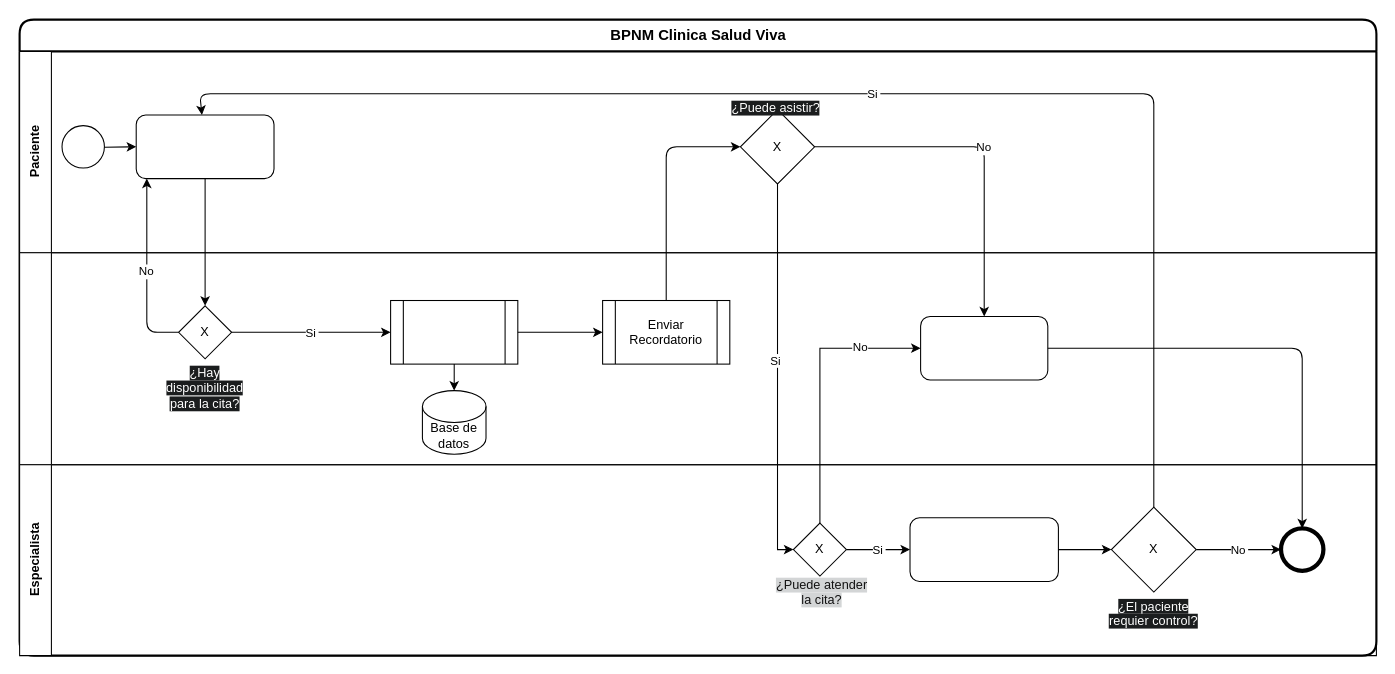
The diagram is 1395 pixels wide and 674 high, and some of its shapes have lost their labels. The box of each missing label's shape, as (x1, y1, x2, y2) in pixels:
Atender Consulta y Registrar Resultados: (909, 517, 1058, 581)
Confirmar Cita (Correo/SMS): (390, 299, 518, 364)
Reprogramar Cita: (920, 315, 1048, 380)
Seleccionar Especialidad, Médico y Fecha: (135, 114, 274, 179)
Sistema de citas: (19, 252, 1376, 465)
